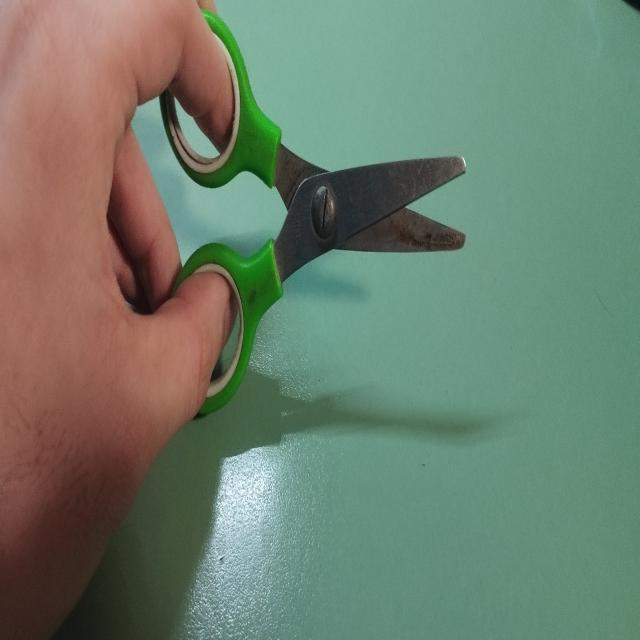tesoura: (154, 0, 470, 426)
